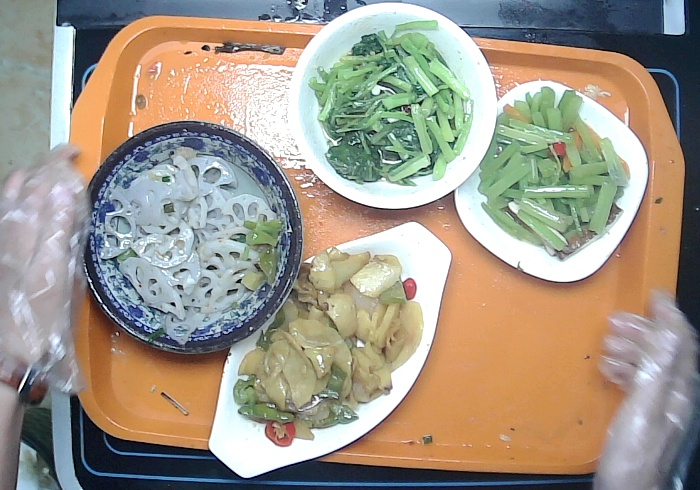ZNLD-Qing_Hua_Wan: (74, 114, 308, 358)
ZNLD-Si_Fang_Wan: (448, 77, 658, 285)
ZNLD-Tang_Wan: (282, 1, 503, 222)
ZNLD-Yu_Pan: (203, 215, 454, 485)
